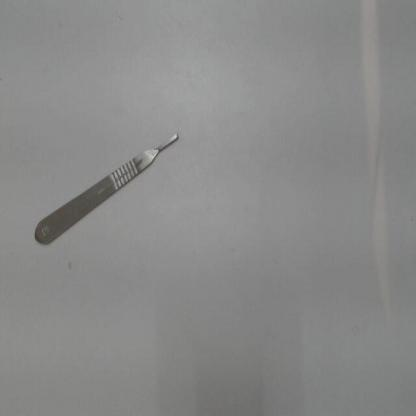No.3 BP Handle: (29, 124, 187, 255)
